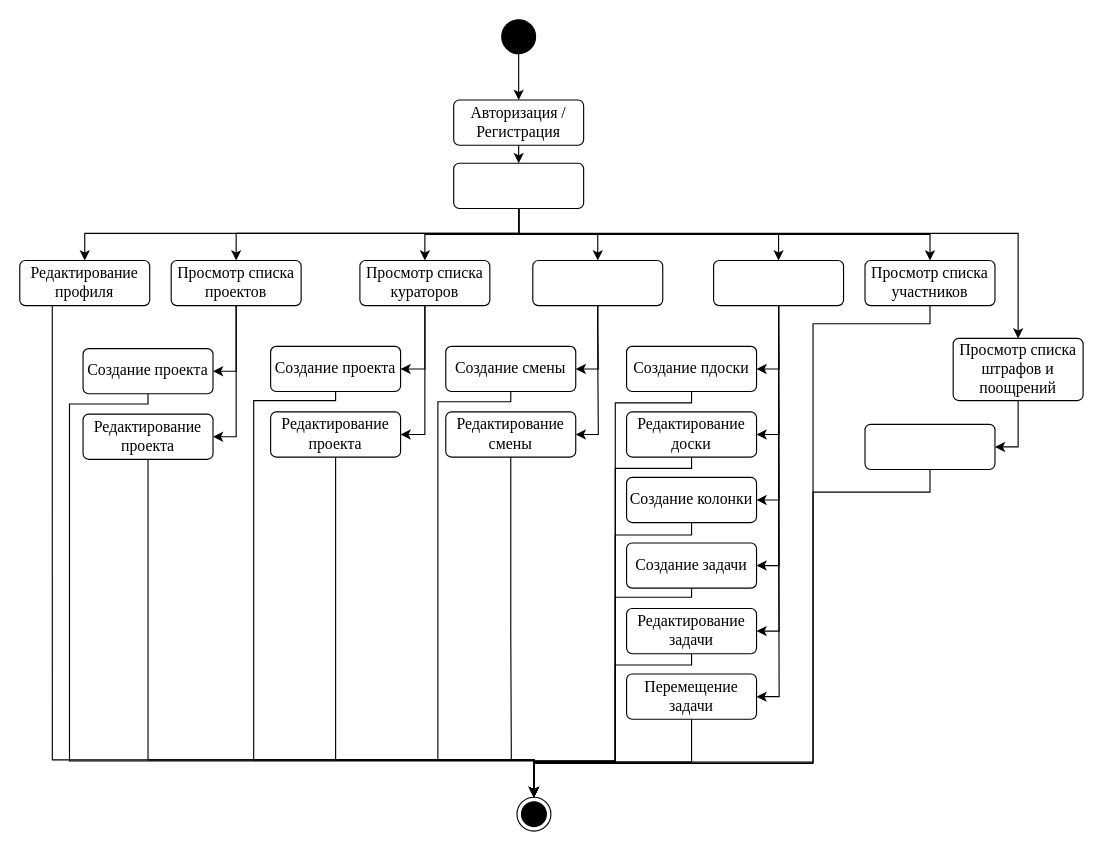
Some shapes in this 1103 by 851 pixel diagram are drawn without their labels. Here are the shapes that lost their labels. From the top down, the centre of each, then its label:
At pixel 518 185: "Моя страница".
At pixel 597 282: "Просмотр списка смен".
At pixel 778 282: "Просмотр досок".
At pixel 929 446: "Создание штрафа или поощрения".
